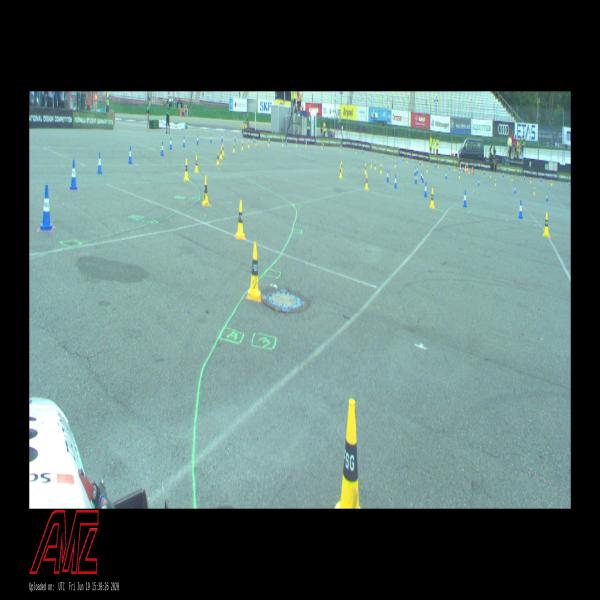blue_cone: (40, 185, 53, 230), (70, 160, 77, 190), (97, 152, 102, 173), (518, 200, 523, 219), (128, 146, 133, 164), (463, 190, 467, 208), (161, 141, 164, 156), (424, 182, 427, 197), (395, 174, 398, 189), (170, 137, 172, 149), (387, 170, 389, 182), (196, 134, 198, 144), (415, 173, 417, 183), (422, 172, 424, 182), (414, 166, 416, 176), (183, 136, 185, 146), (221, 133, 223, 142), (546, 193, 548, 202), (210, 134, 212, 143), (514, 186, 516, 194), (478, 178, 480, 186), (445, 172, 447, 179), (234, 134, 236, 141), (421, 170, 422, 180), (417, 166, 418, 173)
large_orange_cone: (465, 164, 466, 173)
yellow_cone: (334, 399, 361, 509), (248, 242, 262, 301), (235, 200, 246, 240), (202, 176, 209, 206), (542, 212, 550, 236), (184, 158, 189, 180), (194, 155, 199, 172), (430, 188, 434, 209), (364, 173, 368, 190), (216, 151, 220, 165), (339, 164, 342, 178), (222, 144, 225, 155), (220, 147, 222, 159), (364, 163, 366, 174), (380, 163, 382, 174), (233, 142, 235, 153), (341, 161, 343, 172), (242, 140, 244, 150), (374, 160, 376, 170), (268, 138, 270, 147), (248, 139, 250, 148), (533, 187, 535, 195), (494, 179, 496, 186), (426, 166, 428, 173), (511, 174, 513, 180), (371, 160, 372, 168), (459, 172, 460, 179), (530, 178, 531, 184)
